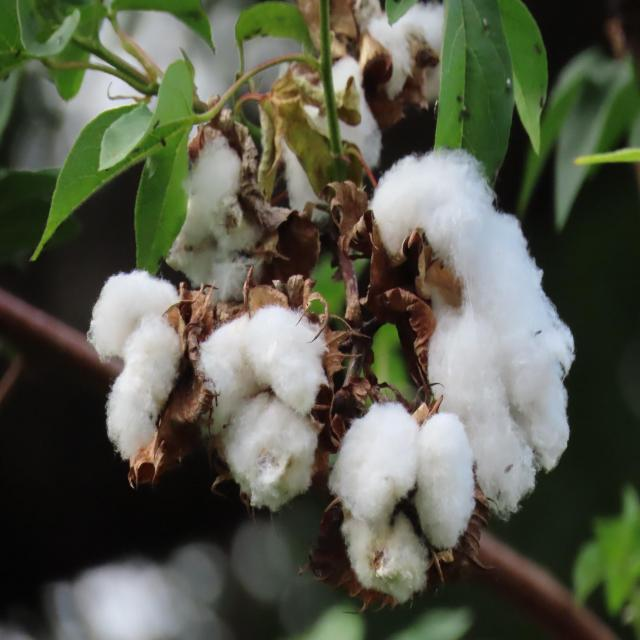Early_blight: (369, 149, 577, 516), (204, 302, 328, 511), (335, 402, 458, 598), (87, 268, 182, 474), (164, 124, 273, 296), (395, 6, 443, 100)
